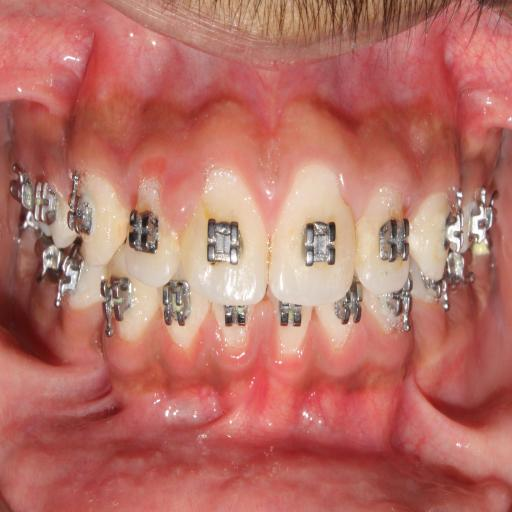correct_brace: (203, 205, 248, 280), (295, 206, 341, 275), (374, 213, 410, 270), (128, 201, 161, 256), (69, 186, 97, 243)
incorrect_brace: (122, 184, 179, 285), (356, 188, 409, 288)
